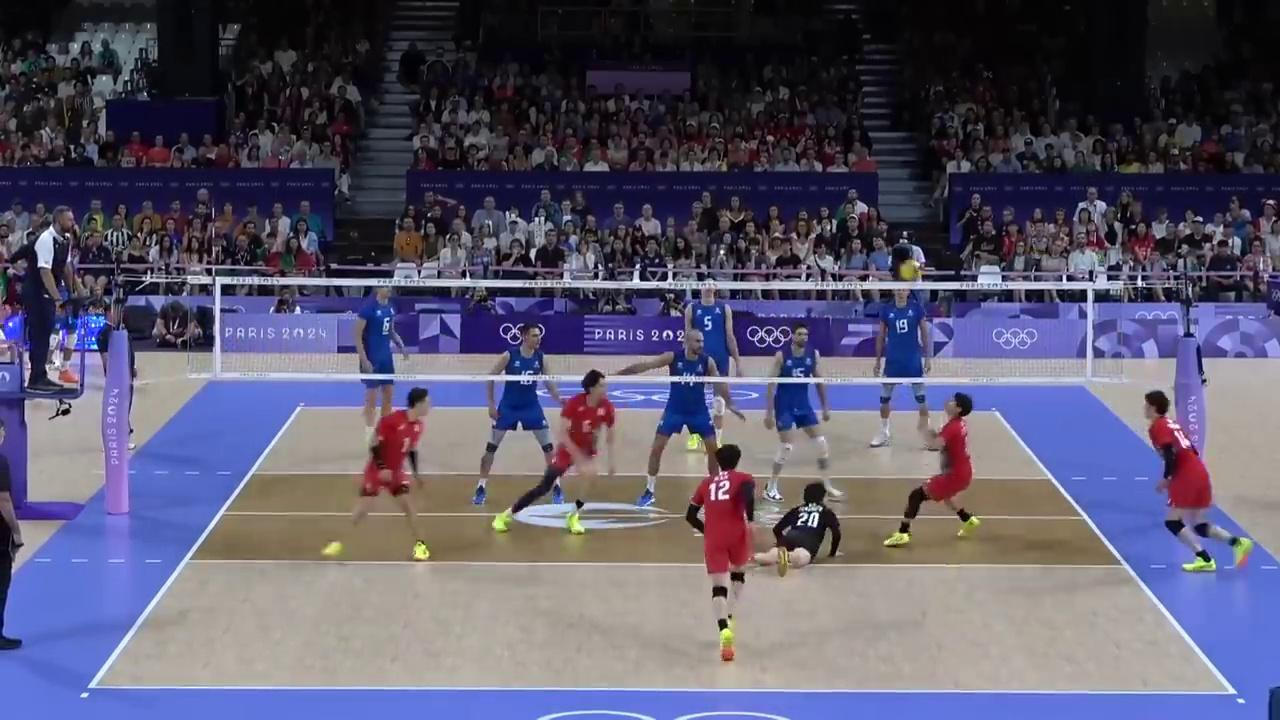ball: (902, 260, 920, 281)
